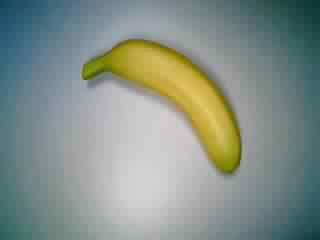banana: (80, 34, 245, 178)
